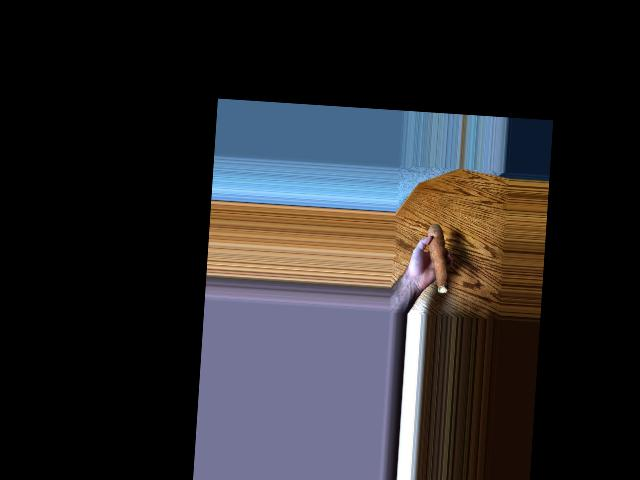sweet_potato: (428, 220, 451, 296)
